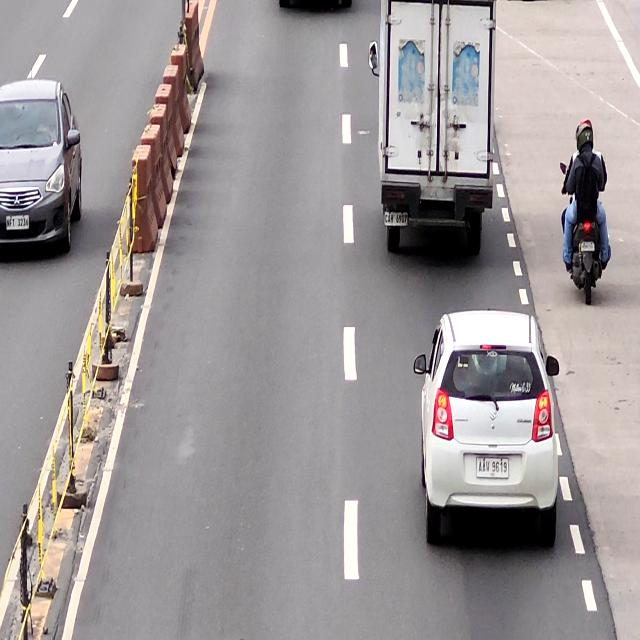Car: (413, 311, 561, 550)
License-Plate: (478, 456, 510, 479), (384, 210, 408, 227), (580, 240, 596, 254)
Motorcycle: (559, 160, 610, 307)
Truck: (369, 0, 495, 252)
